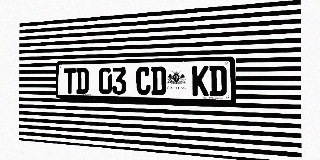0: (99, 67, 112, 94)
3: (112, 67, 126, 95)
C: (136, 67, 151, 95)
D: (209, 65, 227, 96), (151, 66, 166, 95), (76, 68, 88, 94)
K: (192, 66, 209, 96)
T: (64, 68, 76, 94)
